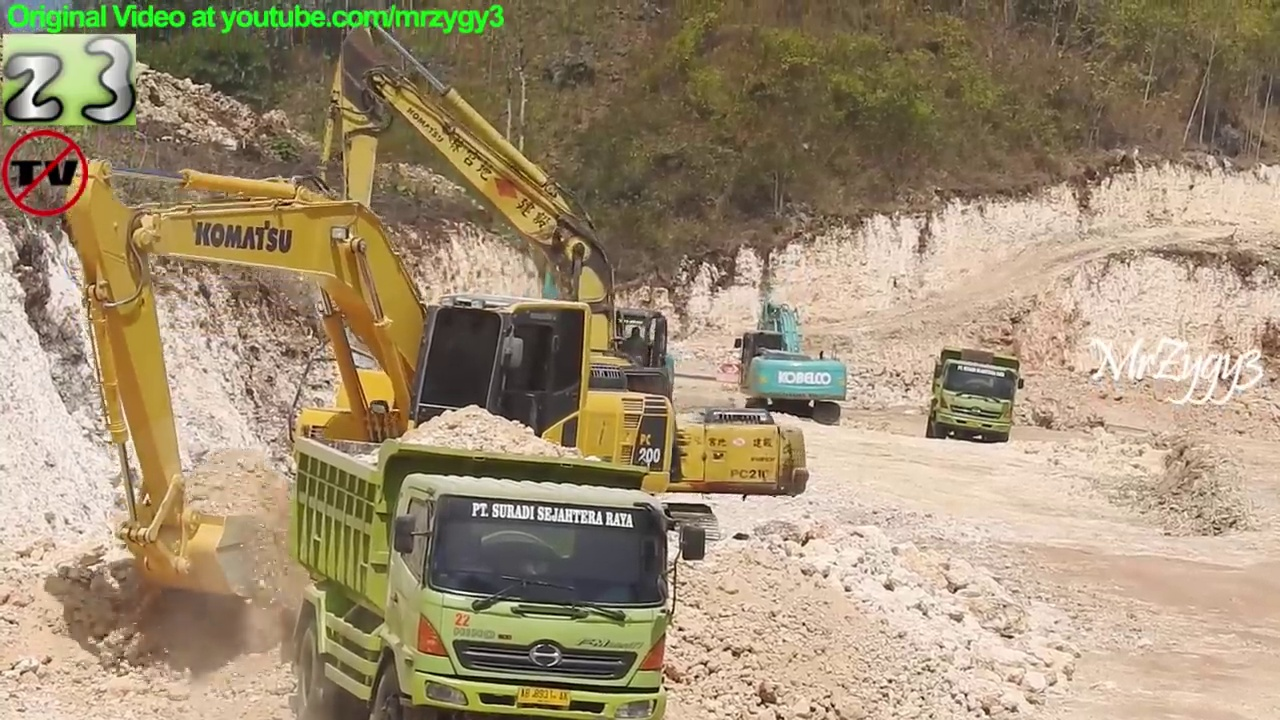excavator: (60, 148, 681, 607), (300, 12, 809, 550), (731, 299, 853, 430)
truck: (288, 430, 711, 720), (923, 343, 1031, 448)
